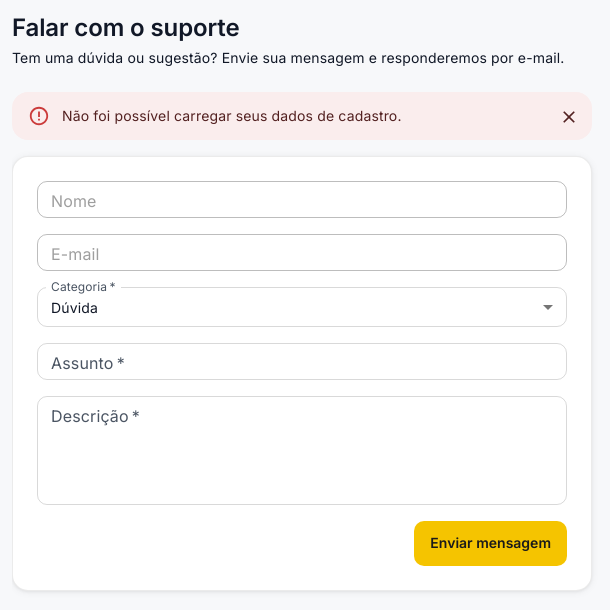
SuporteForm › mostra erro quando o perfil não carrega e fecha o banner ao clicar
The width and height of the screenshot is (610, 610).
Expected: the text "Não foi possível carregar seus dados de cadastro." is shown, x1=62 y1=107 x2=402 y2=124
Click the button named "fechar" at (569, 117), box x1=554 y1=102 x2=584 y2=132
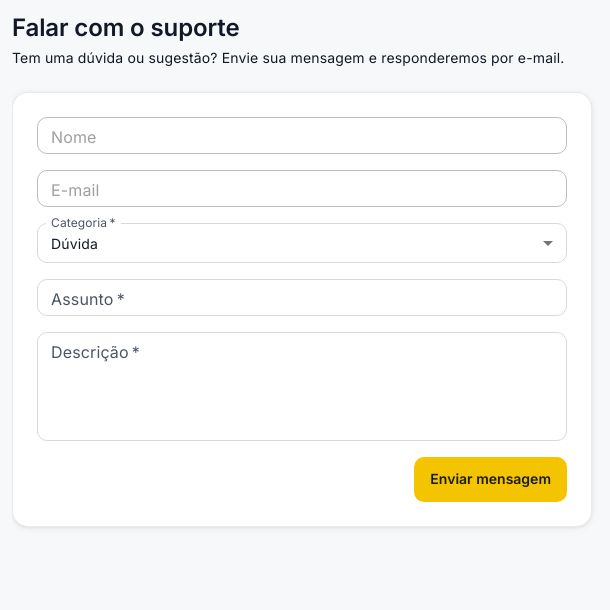
Expected: the text "Não foi possível carregar seus dados" is gone
